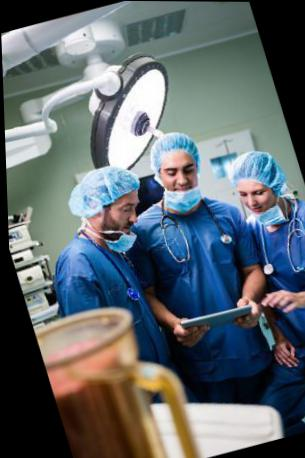WRONG: (156, 152, 204, 205), (103, 193, 148, 245), (236, 177, 277, 221)
